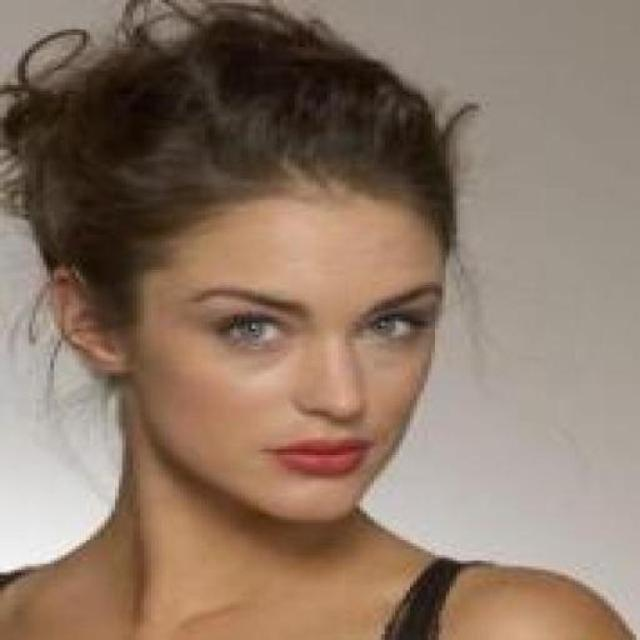bareface: (98, 108, 450, 523)
